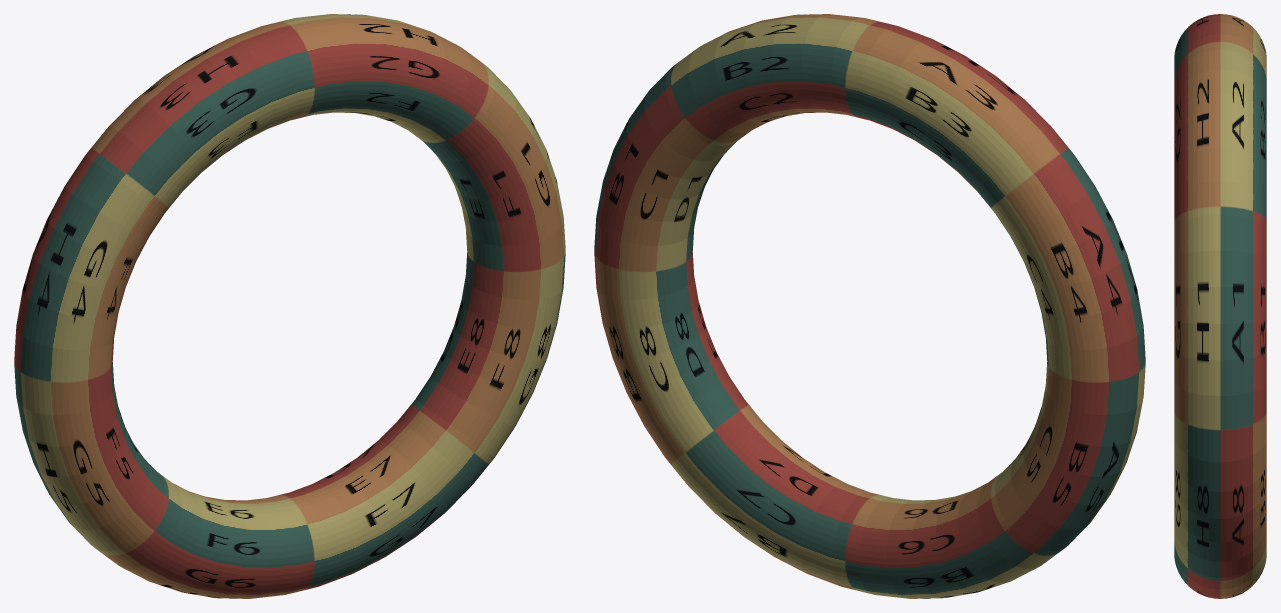
File: texture_torus_R20_r9.glb
3 renders of one model, left to right at view 1: azimuth 30°, elevation 25°; view 2: azimuth 150°, elevation 25°; view 3: azimuth 270°, elevation 25°, orthographic. The views are drawn at different scales.
Parts seen in each view (by area): view 1: world; view 2: world; view 3: world.
Boxes of the visible parts, bbox=[...] form: world: bbox=[14, 14, 565, 598]; world: bbox=[594, 14, 1145, 598]; world: bbox=[1174, 14, 1266, 598].
Size of the model in its own units: 27.73 by 27.68 by 4.39.
1 material, 1 textured.
